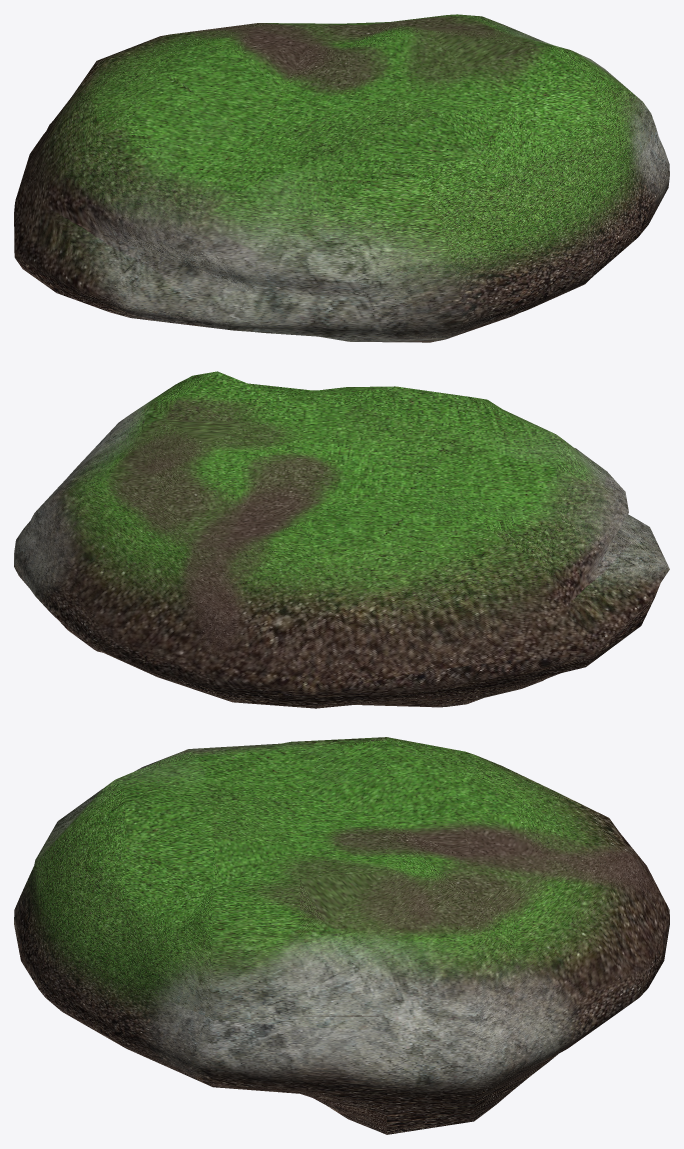
File: WitchMound.fbx
The picture shows the model from 3 angles, top to bottom: view 1: azimuth 30°, elevation 25°; view 2: azimuth 150°, elevation 25°; view 3: azimuth 270°, elevation 25°; orthographic projection. The views are drawn at different scales.
Parts seen in each view (by area): view 1: Mball.014; view 2: Mball.014; view 3: Mball.014.
Part boxes in pixels (x1=…): Mball.014: x1=14, y1=14, x2=669, y2=342; Mball.014: x1=14, y1=371, x2=669, y2=708; Mball.014: x1=14, y1=737, x2=669, y2=1134.
Bounding box in the file's own units: 2227 × 790 × 2089.
